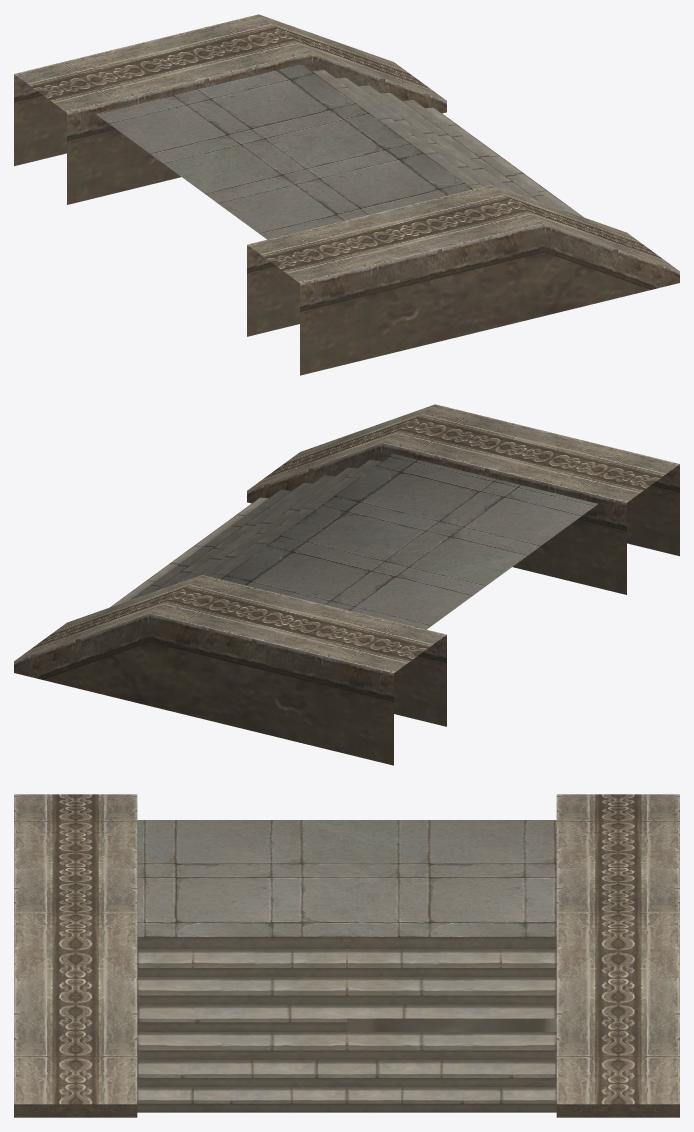
The model's file is zc_zhanchang001_taijie01_53_28_6972out.fbx.
3 renders of one model, top to bottom at view 1: azimuth 30°, elevation 25°; view 2: azimuth 150°, elevation 25°; view 3: azimuth 270°, elevation 25°, orthographic. The views are drawn at different scales.
Parts seen in each view (by area): view 1: 0002_zc_zhanchang001_taijie01, 0001_zc_zhanchang001_taijie01, 0000_zc_zhanchang001_taijie01; view 2: 0002_zc_zhanchang001_taijie01, 0001_zc_zhanchang001_taijie01, 0000_zc_zhanchang001_taijie01; view 3: 0002_zc_zhanchang001_taijie01, 0000_zc_zhanchang001_taijie01, 0001_zc_zhanchang001_taijie01.
Part boxes in pixels (box(x1,y1,x2,y2)): 0002_zc_zhanchang001_taijie01: box(14, 14, 679, 375); 0001_zc_zhanchang001_taijie01: box(96, 63, 472, 239); 0000_zc_zhanchang001_taijie01: box(312, 69, 583, 217); 0002_zc_zhanchang001_taijie01: box(14, 404, 679, 765); 0001_zc_zhanchang001_taijie01: box(221, 453, 597, 629); 0000_zc_zhanchang001_taijie01: box(110, 459, 381, 607); 0002_zc_zhanchang001_taijie01: box(14, 794, 679, 1117); 0000_zc_zhanchang001_taijie01: box(137, 937, 556, 1112); 0001_zc_zhanchang001_taijie01: box(137, 820, 556, 936).
Size of the model in its own units: 3.05 by 0.7073 by 3.97.
